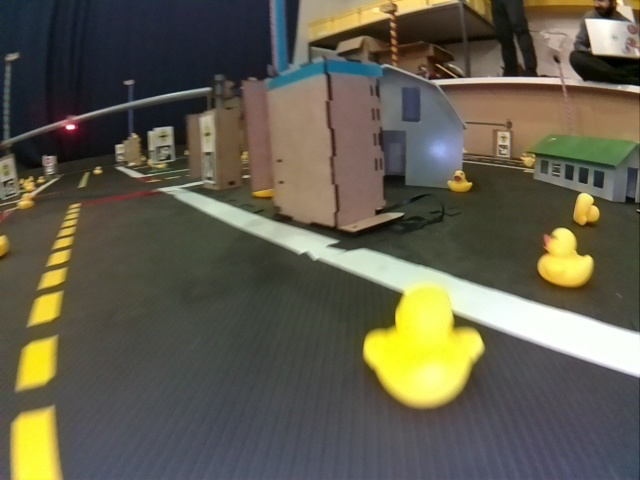Duckie: (364, 285, 476, 408), (537, 228, 592, 286), (573, 194, 599, 225), (448, 170, 471, 191), (18, 193, 33, 206), (25, 182, 34, 191), (37, 175, 46, 184), (93, 166, 102, 174)
Intersection sign: (202, 122, 214, 147), (156, 129, 171, 143), (499, 133, 509, 143)
QR code: (202, 151, 215, 183), (1, 177, 18, 199), (155, 144, 173, 161), (498, 144, 507, 155)
Traffic light: (66, 121, 77, 132)
